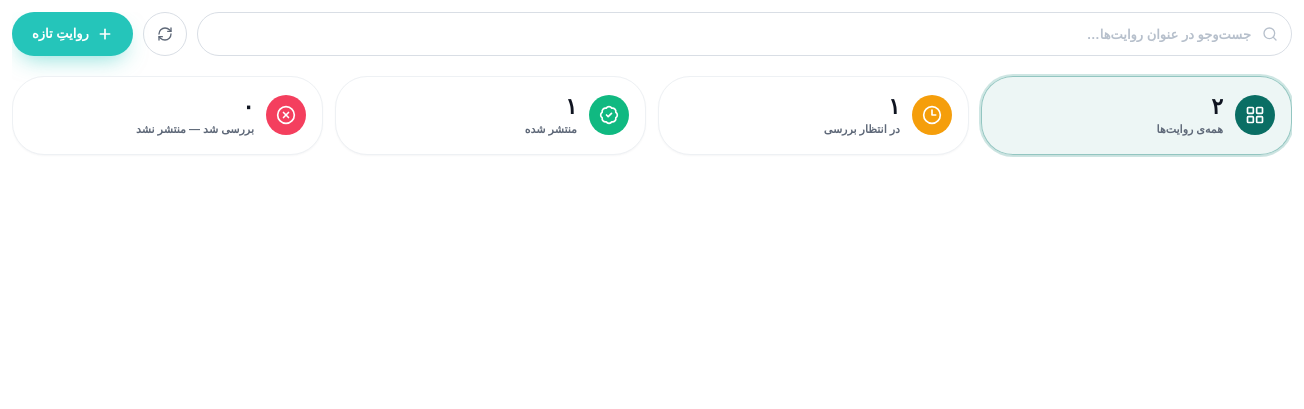
Test: MyStoriesManager — گیتِ احراز و فهرست › فیلترِ «منتشر شده» فقط کارتِ مرتبط را نگه می‌دارد
Click the button "۱ منتشر شده".
click(609, 115)  # box [335, 76, 646, 154]
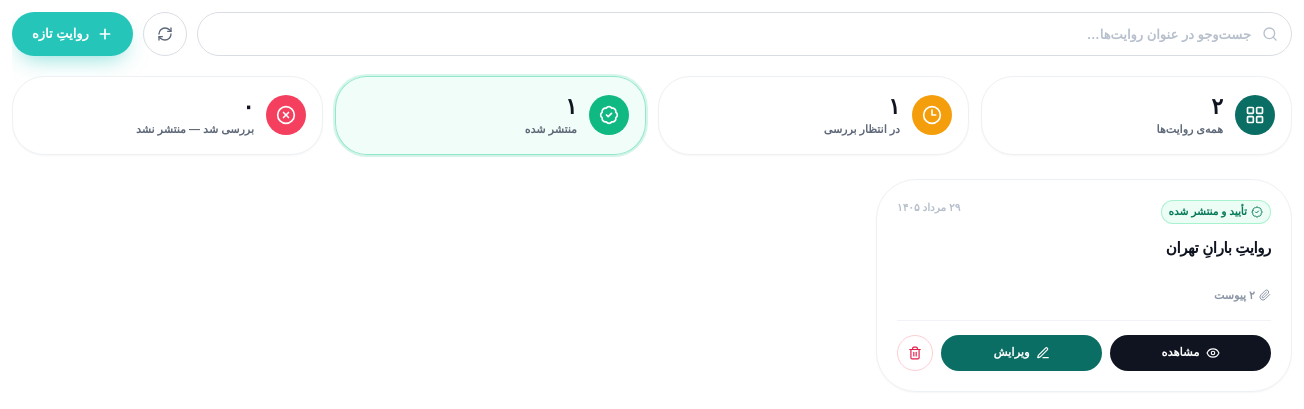
Expected: the heading "روایتِ بارانِ تهران" is shown, [1166, 238, 1271, 256]
